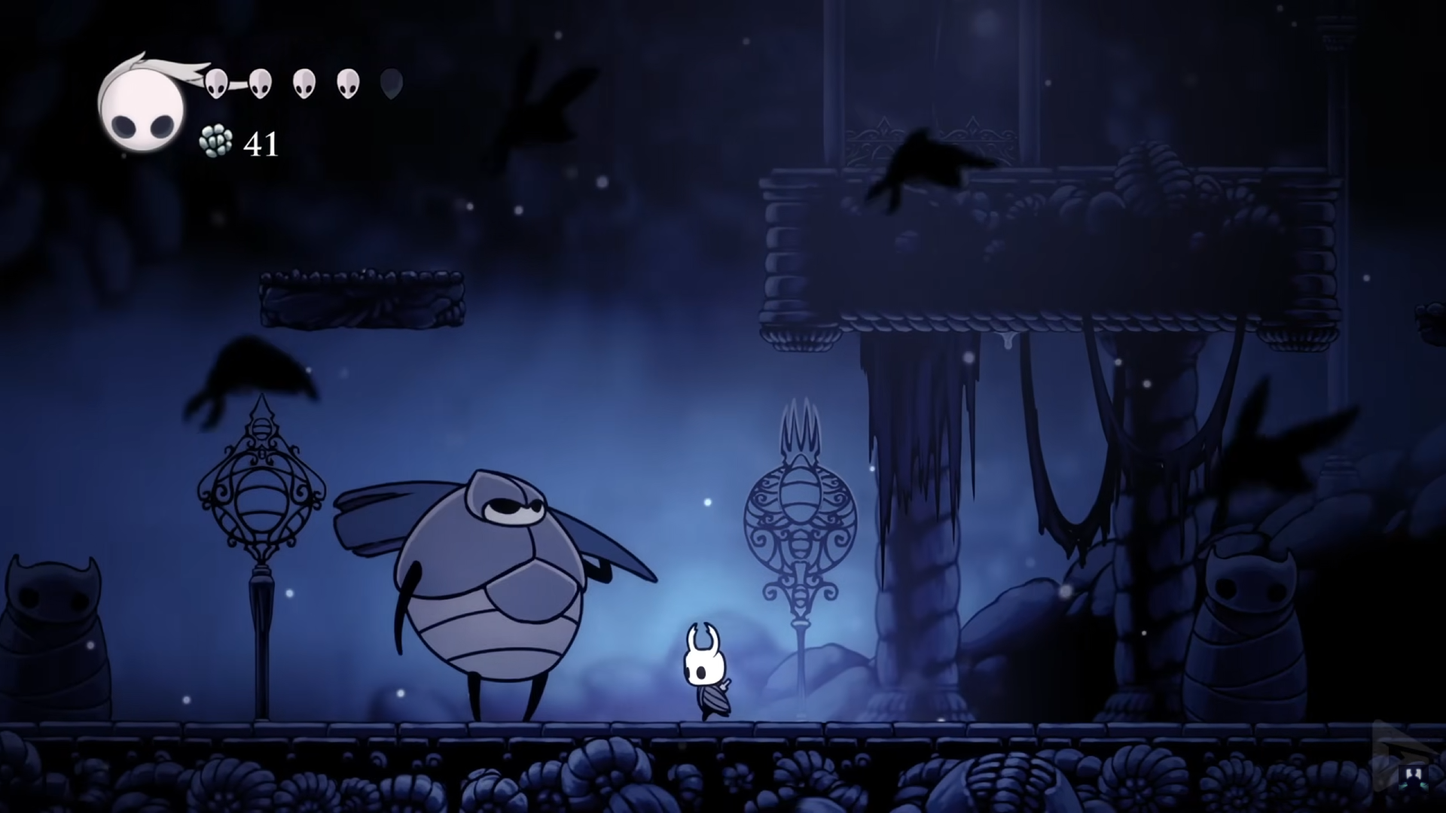HK: (678, 623, 734, 725)
